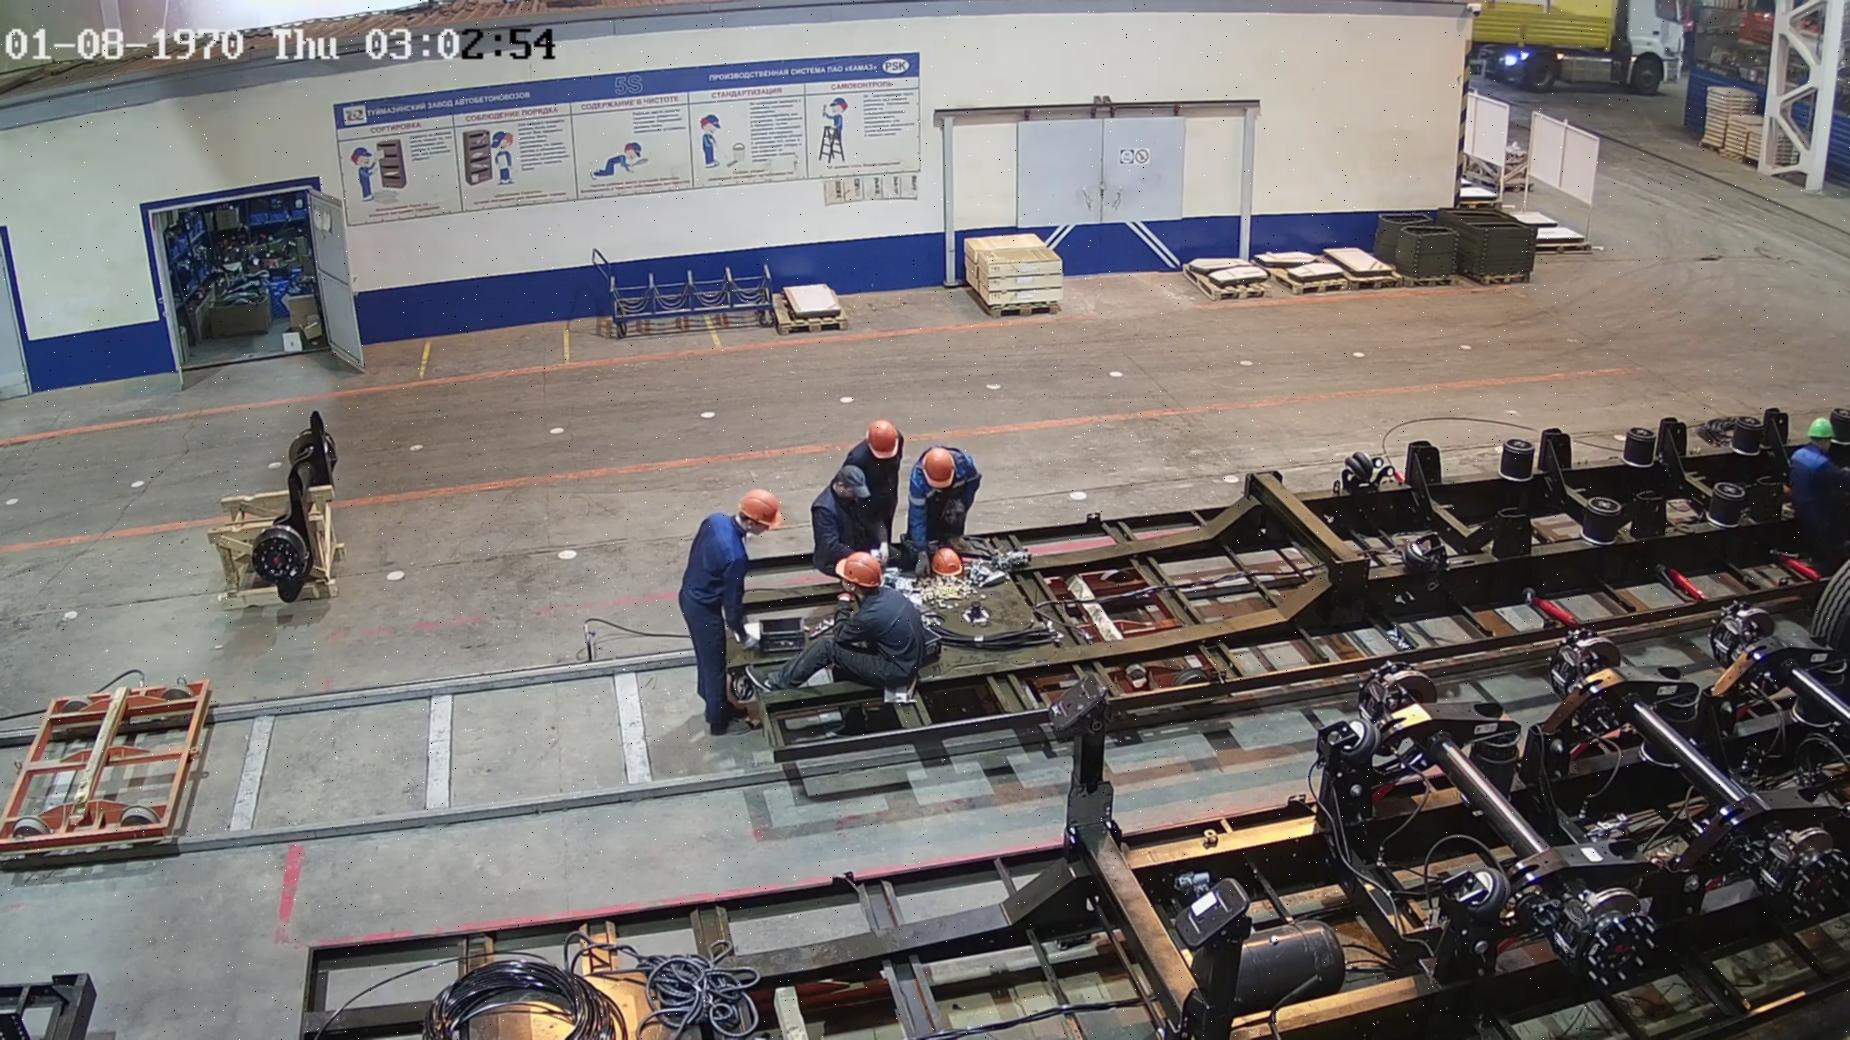helmet: (836, 553, 887, 589), (738, 493, 788, 526), (868, 415, 903, 462), (922, 449, 959, 486), (1802, 409, 1831, 443)
person: (658, 487, 796, 739), (800, 551, 935, 704), (1772, 411, 1850, 592), (838, 409, 905, 544), (914, 437, 985, 549), (800, 459, 873, 552)
